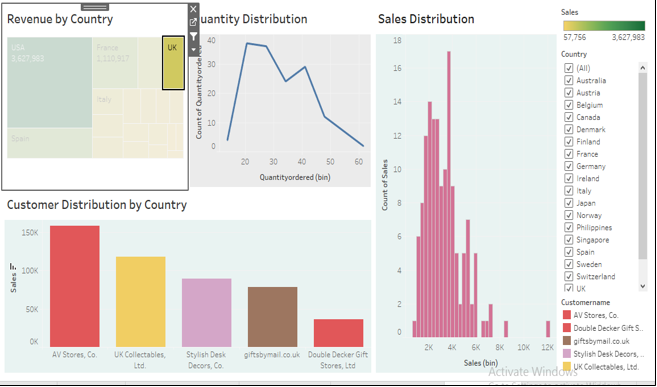

This screenshot's page, from the dashboard's own definition file:
{"tool":"tableau","page":{"name":"Sales Dashboard 1","canvas":[1000,1000],"units":"permille","ordinal":0},"visuals":[{"type":"worksheet","title":"Revenue by Country","mark":"Automatic","box":[6.9,13.5,352,511.8]},{"type":"worksheet","title":"Quantity Distribution","mark":"Line","rows":["QUANTITYORDERED"],"cols":["Quantityordered (bin)"],"box":[358.9,13.5,215.4,511.8]},{"type":"worksheet","title":"Sales Distribution","mark":"Automatic","rows":["SALES"],"cols":["Sales (bin)"],"box":[574.3,13.5,280.2,973]},{"type":"legend","title":"Revenue by Country","param":"[federated.1jkcy2u0u6a9jw157zj5j0occhv6].[sum:SALES:qk]","box":[854.5,13.5,138.5,109.8]},{"type":"filter","title":"Customer Distribution by Country","param":"[federated.1jkcy2u0u6a9jw157zj5j0occhv6].[none:COUNTRY:nk]","box":[854.5,123.3,138.5,431.6]},{"type":"worksheet","title":"Customer Distribution by Country","mark":"Automatic","rows":["SALES"],"cols":["CUSTOMERNAME"],"box":[6.9,525.3,567.4,461.2]},{"type":"legend","title":"Customer Distribution by Country","param":"[federated.1jkcy2u0u6a9jw157zj5j0occhv6].[none:CUSTOMERNAME:nk]","box":[854.5,554.9,138.5,431.6]}]}

Visuals, with their boxes on the dashboard's canvas, which has no fixed pixel size, in thousandths of its width and height (x1, y1, x2, y2). These are canvas units, not pixel positions in the 657x387 screenshot, which may show the page scaled, cropped or inside an application window:
"Revenue by Country" worksheet: crop(7, 14, 359, 525)
"Quantity Distribution" worksheet (Line marks): crop(359, 14, 574, 525)
"Sales Distribution" worksheet: crop(574, 14, 854, 986)
"Revenue by Country" legend: crop(854, 14, 993, 123)
"Customer Distribution by Country" filter: crop(854, 123, 993, 555)
"Customer Distribution by Country" worksheet: crop(7, 525, 574, 986)
"Customer Distribution by Country" legend: crop(854, 555, 993, 986)
